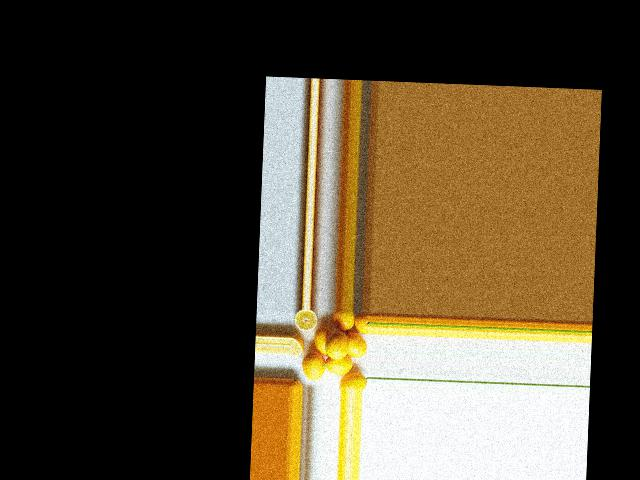lemon: (333, 311, 355, 331)
